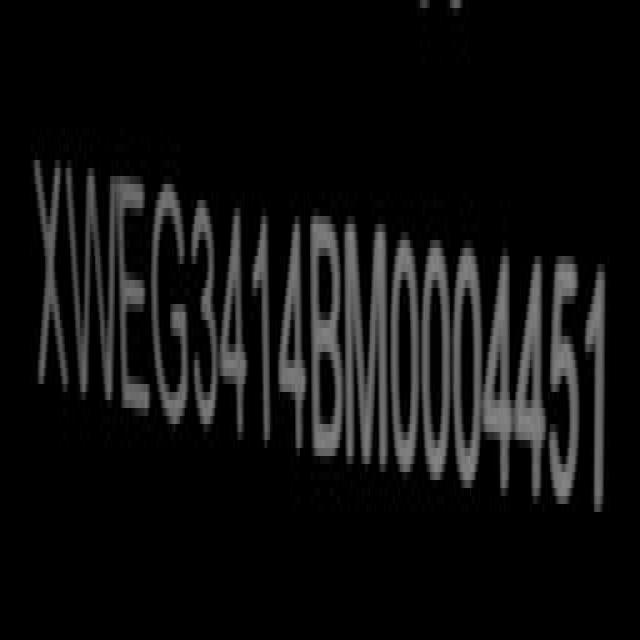0: (452, 236, 484, 499), (422, 230, 453, 496), (393, 222, 423, 488)
1: (585, 253, 609, 531), (253, 200, 274, 461)
3: (192, 185, 222, 447)
4: (514, 244, 550, 513), (276, 202, 308, 468), (483, 237, 514, 506), (220, 196, 250, 454)
5: (551, 247, 583, 518)
B: (310, 210, 345, 473)
E: (119, 157, 152, 429)
G: (151, 167, 191, 433)
M: (345, 212, 390, 486)
W: (69, 146, 121, 424)
X: (34, 140, 72, 420)
